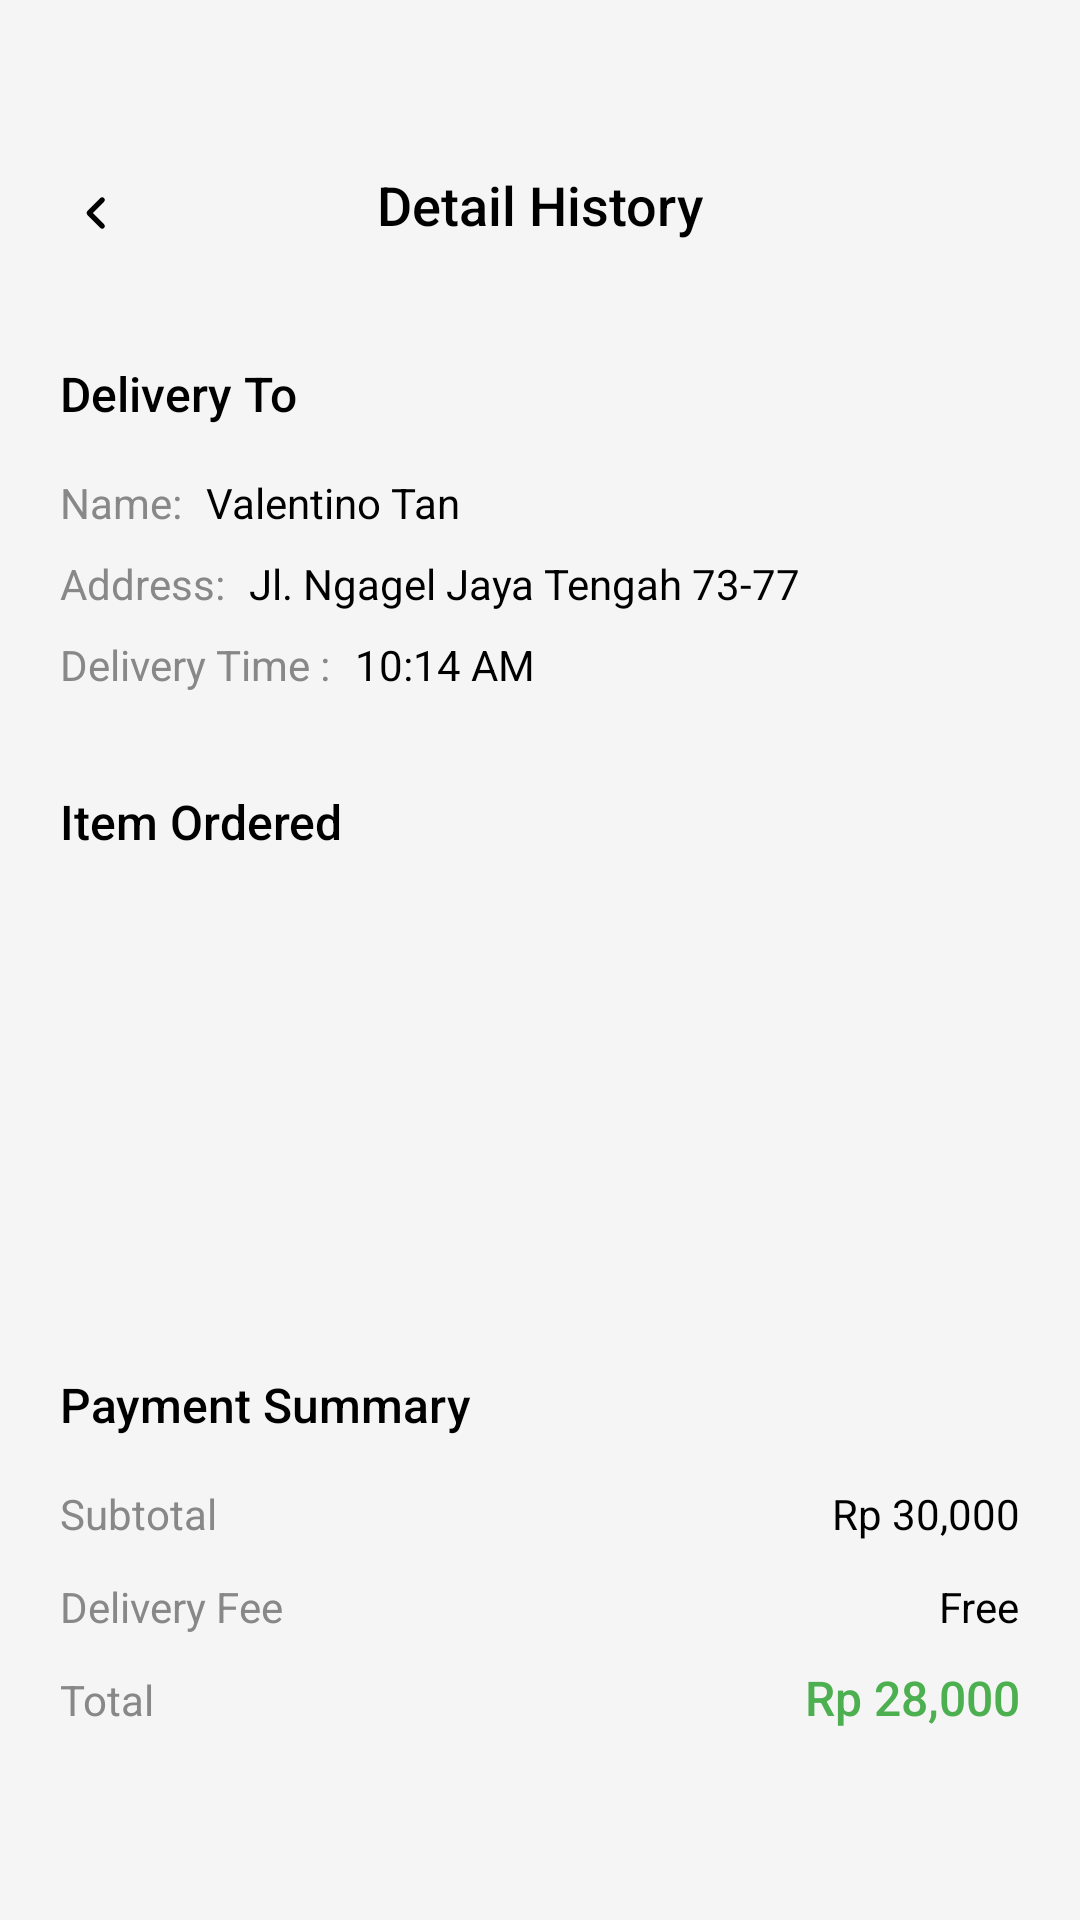

Icon bounding boxes for this 1080x1920 phone screenshot, format (x1, y1, x2, y2):
angle left: (86, 197, 105, 229)
